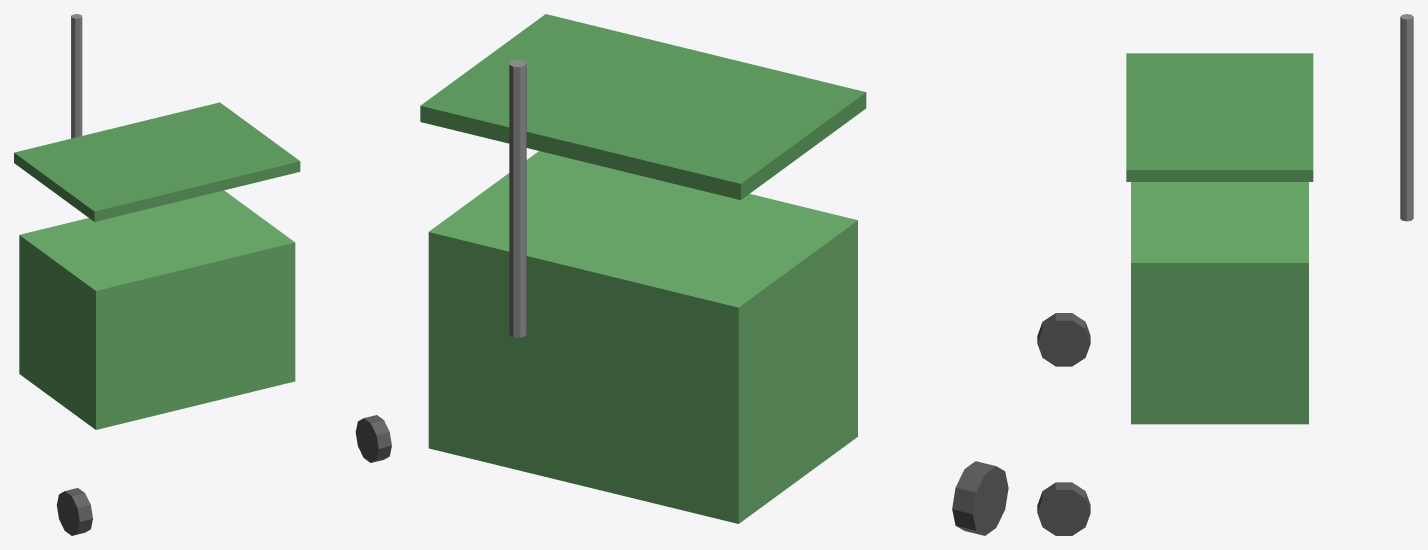
The model's file is mesh_dumpster.fbx.
3 views of the same model, side by side, from view 1: azimuth 30°, elevation 25°; view 2: azimuth 150°, elevation 25°; view 3: azimuth 270°, elevation 25° (orthographic). The views are drawn at different scales.
Parts seen in each view (by area): view 1: mesh_dumpster; view 2: mesh_dumpster; view 3: mesh_dumpster.
Part boxes in pixels (x1=…): mesh_dumpster: x1=14, y1=14, x2=391, y2=535; mesh_dumpster: x1=420, y1=14, x2=1008, y2=535; mesh_dumpster: x1=1037, y1=14, x2=1413, y2=535.
Size of the model in its own units: 0.94 by 1.07 by 0.845.
